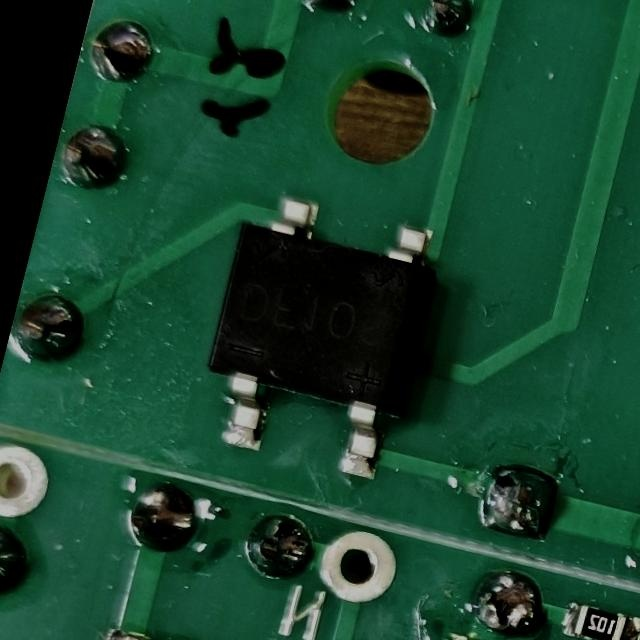chip-resistor: (555, 595, 640, 640)
ic: (180, 180, 452, 492)
